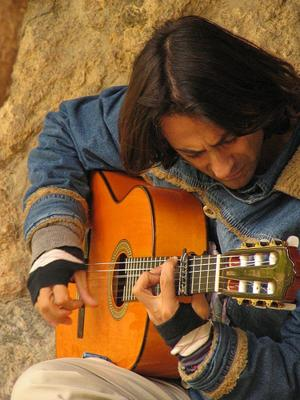person: (10, 16, 300, 400)
